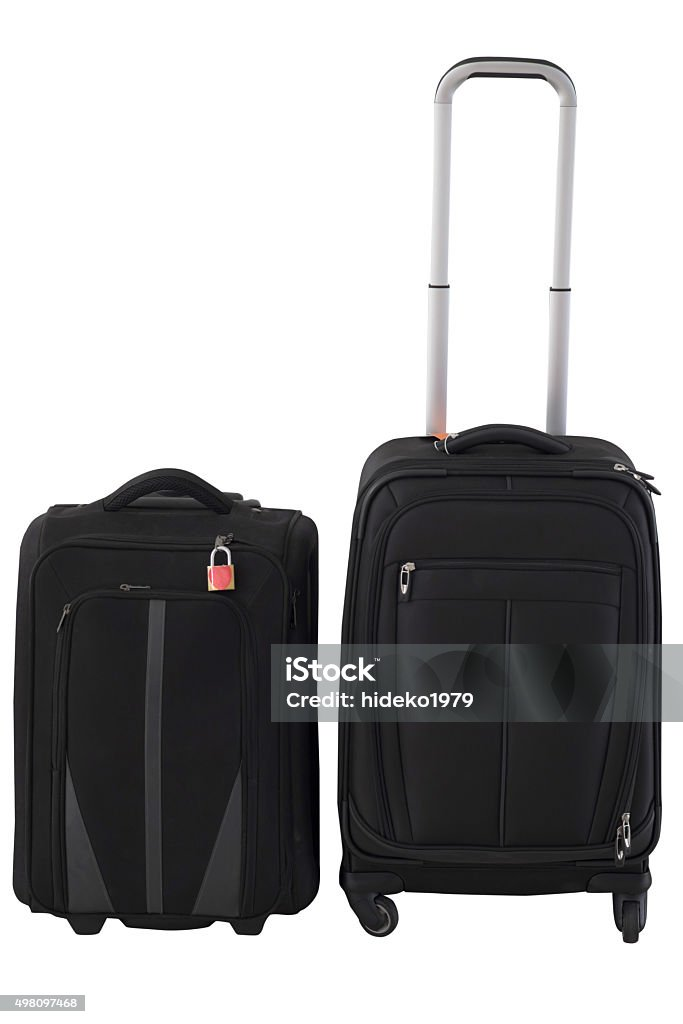Bag: (333, 45, 668, 946), (6, 460, 324, 944)
Handle: (415, 50, 584, 448)
